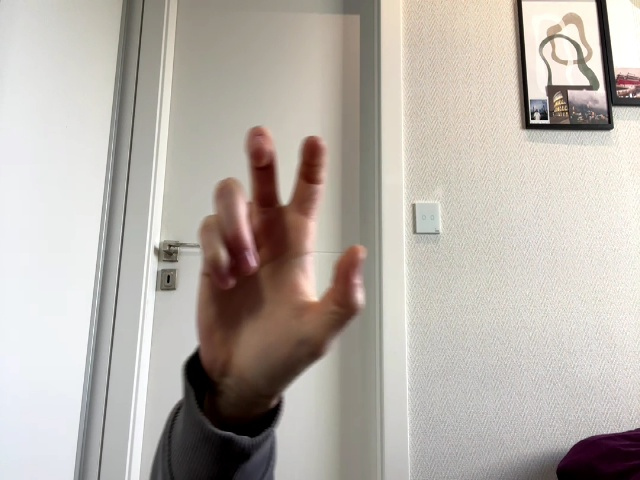CH: (197, 127, 368, 385)
